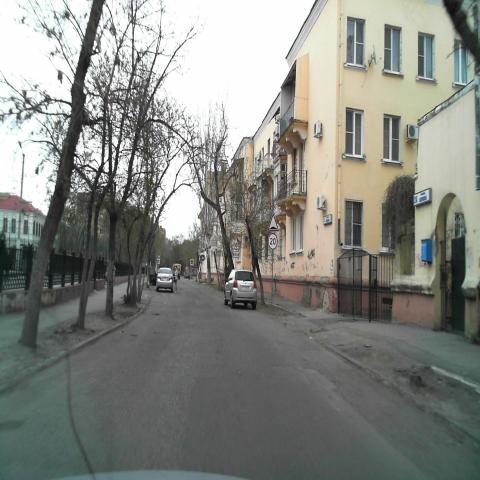1_17: (268, 212, 278, 231)
